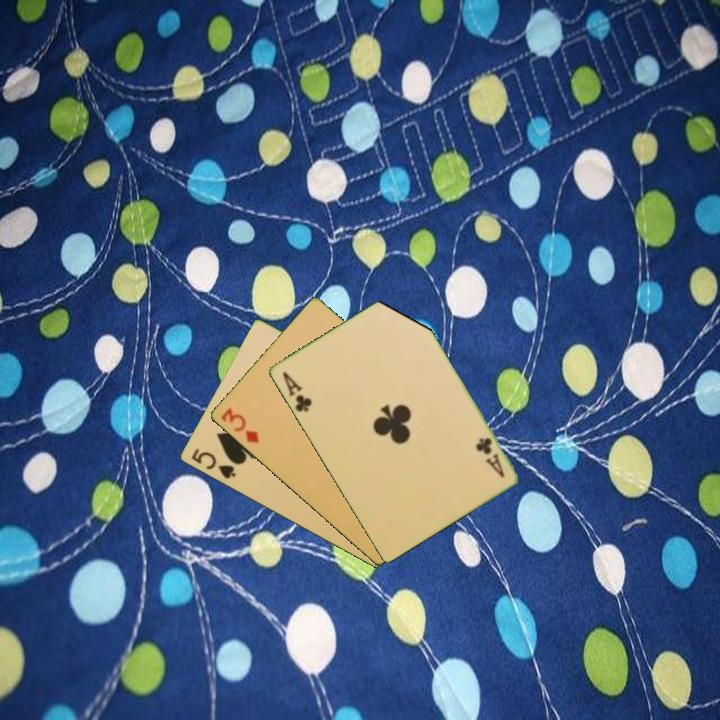3d: (217, 404, 262, 446)
5s: (187, 445, 239, 482)
Ac: (279, 368, 315, 415), (471, 434, 507, 480)
